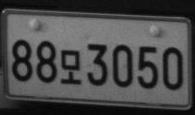0: (161, 46, 184, 90), (111, 43, 133, 87)
3: (87, 42, 108, 87)
5: (136, 45, 158, 89)
8: (10, 38, 32, 82), (35, 40, 57, 83)
모: (60, 48, 82, 85)
